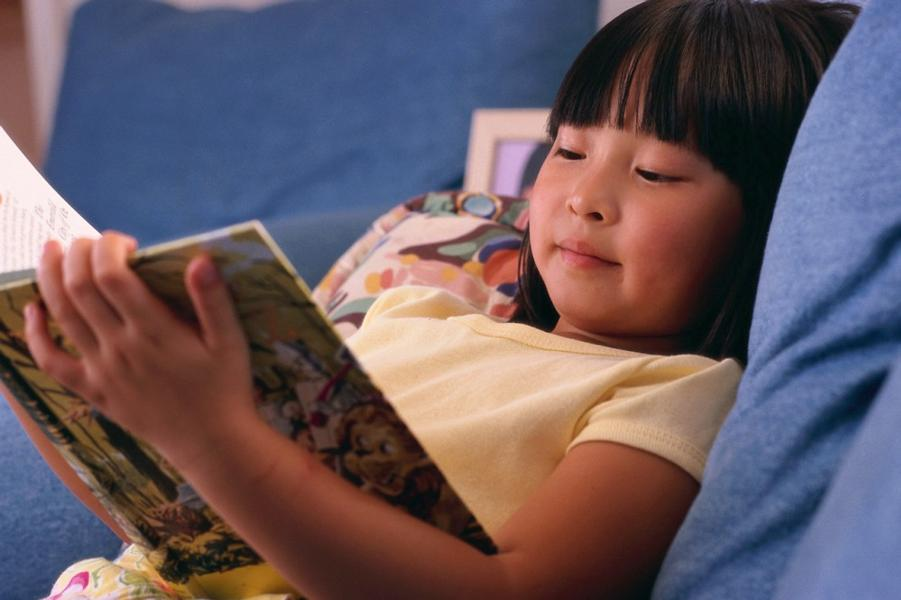person: (4, 1, 871, 600)
